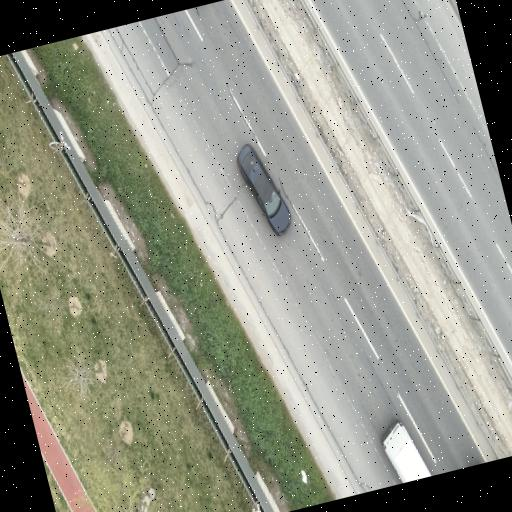car: (236, 144, 290, 235)
truck: (382, 422, 430, 482), (468, 461, 496, 483)
